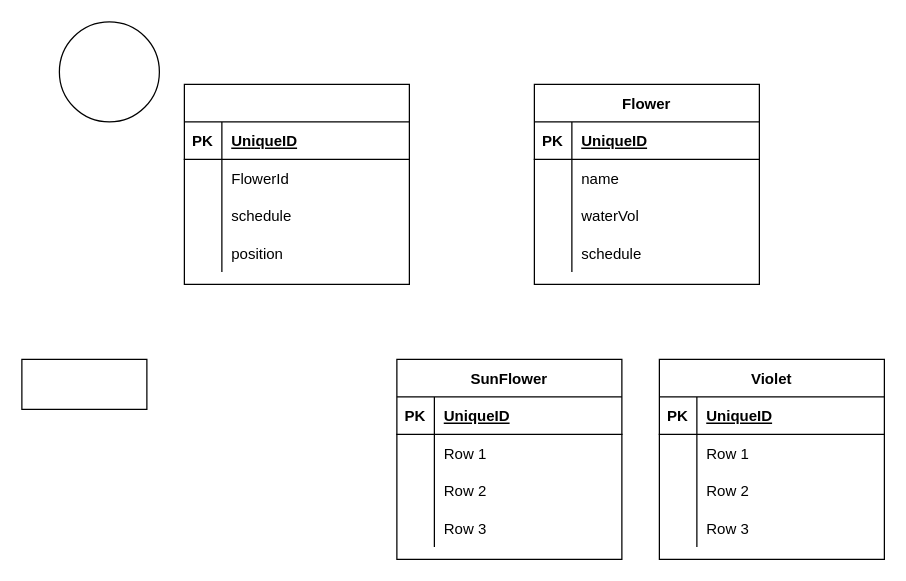
This 906x581 diagram has some shape labels left out. The shapes that lost their labels are listed below. From the top down, each one's box as (x1, y1, x2, y2) in pixels, then its label:
(183, 83, 409, 284): Field
(21, 358, 147, 409): pore
